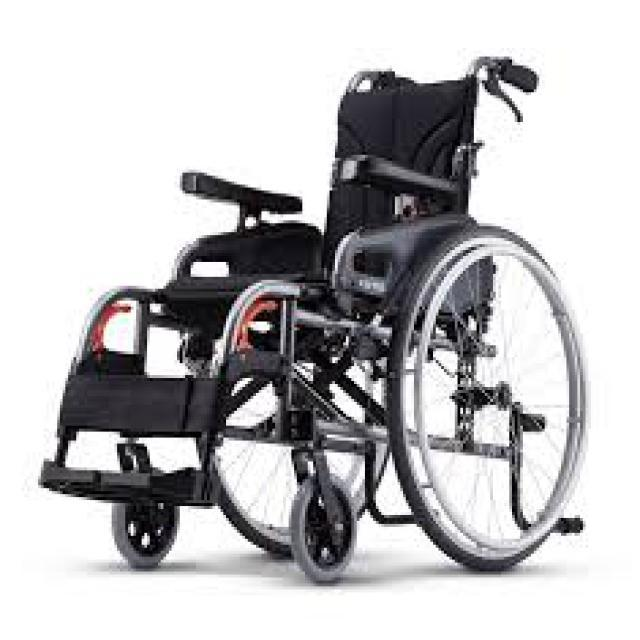wheelchair: (30, 51, 591, 584)
